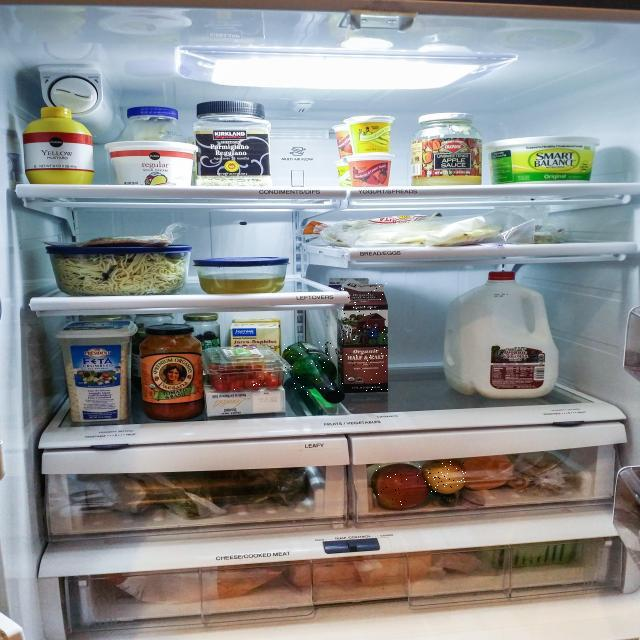apple: (373, 465, 427, 508), (424, 461, 466, 492)
milk: (340, 283, 388, 392)
mineral water: (284, 341, 342, 398)
tomato: (263, 376, 282, 391), (214, 378, 229, 391), (246, 379, 262, 389), (230, 381, 245, 391)
